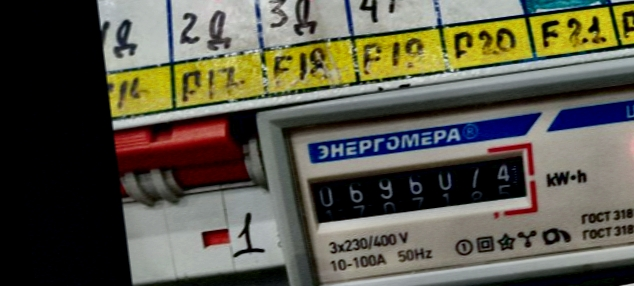0: (314, 180, 336, 206), (435, 164, 454, 190)
4: (493, 156, 511, 180)
5: (497, 181, 514, 198)
6: (406, 167, 426, 195), (346, 177, 366, 203)
7: (465, 161, 485, 188)
9: (376, 172, 395, 200)
screen: (296, 136, 543, 234)
